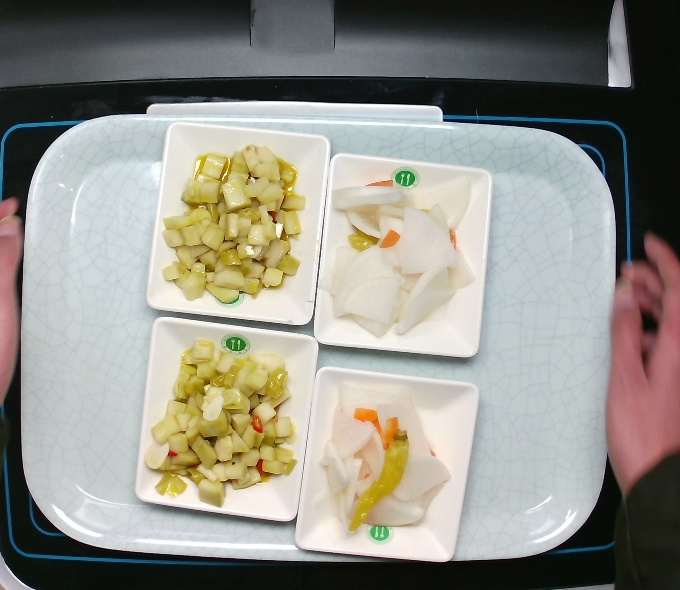wcq-LuLuoBo: (313, 167, 474, 335), (321, 383, 451, 539)
wcq-TangCuOu: (147, 326, 302, 503), (159, 147, 307, 312)
